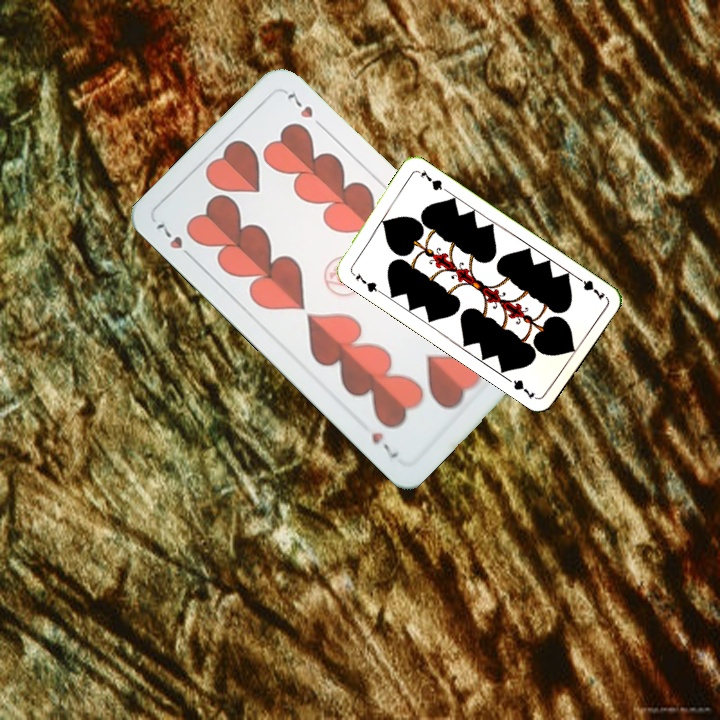G7: (571, 272, 607, 303), (351, 269, 383, 295)
H7: (152, 219, 198, 264)
